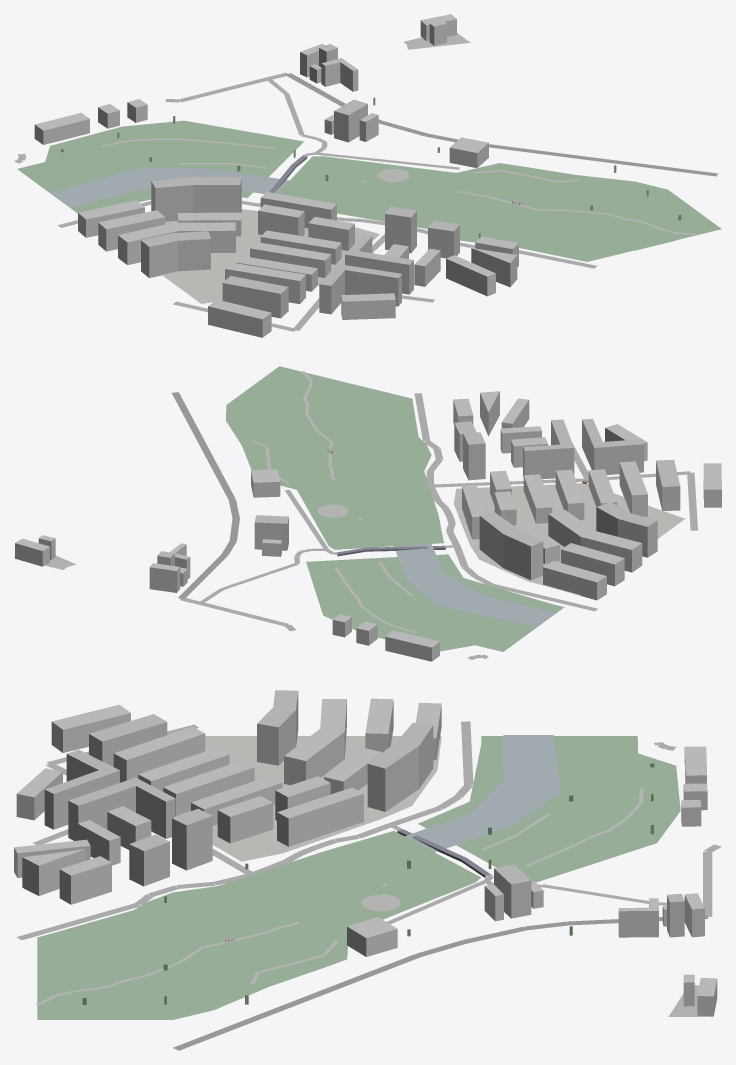
3 views of the same model, one above another, from view 1: azimuth 30°, elevation 25°; view 2: azimuth 150°, elevation 25°; view 3: azimuth 270°, elevation 25° (orthographic). The views are drawn at different scales.
Bounding box in the file's own units: 585 × 39.11 × 524.
